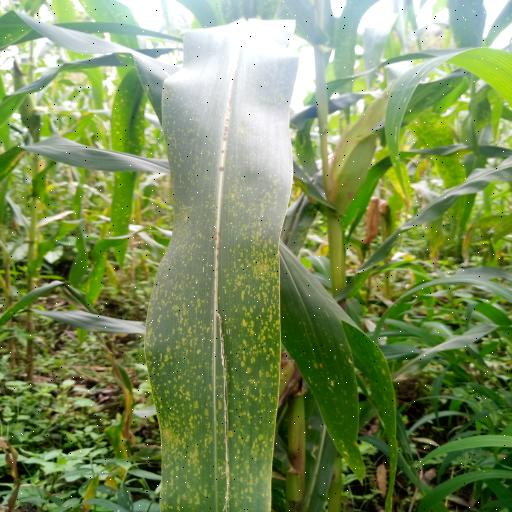Corn_Brown_Spots: (155, 19, 301, 512)
